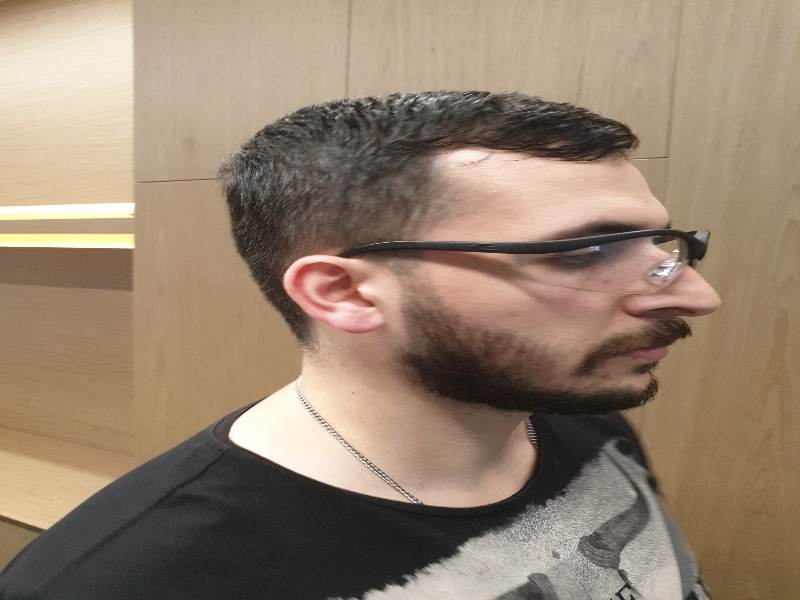Gozluk: (343, 229, 710, 290)
